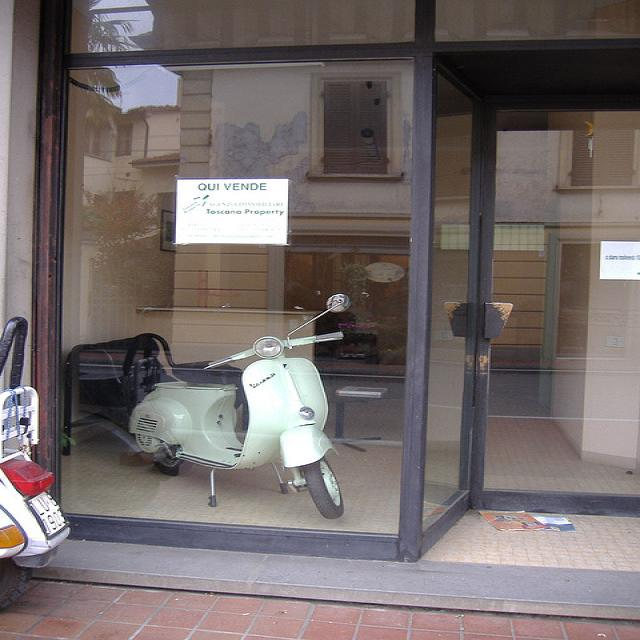motor: (127, 293, 352, 519), (4, 320, 73, 586)
